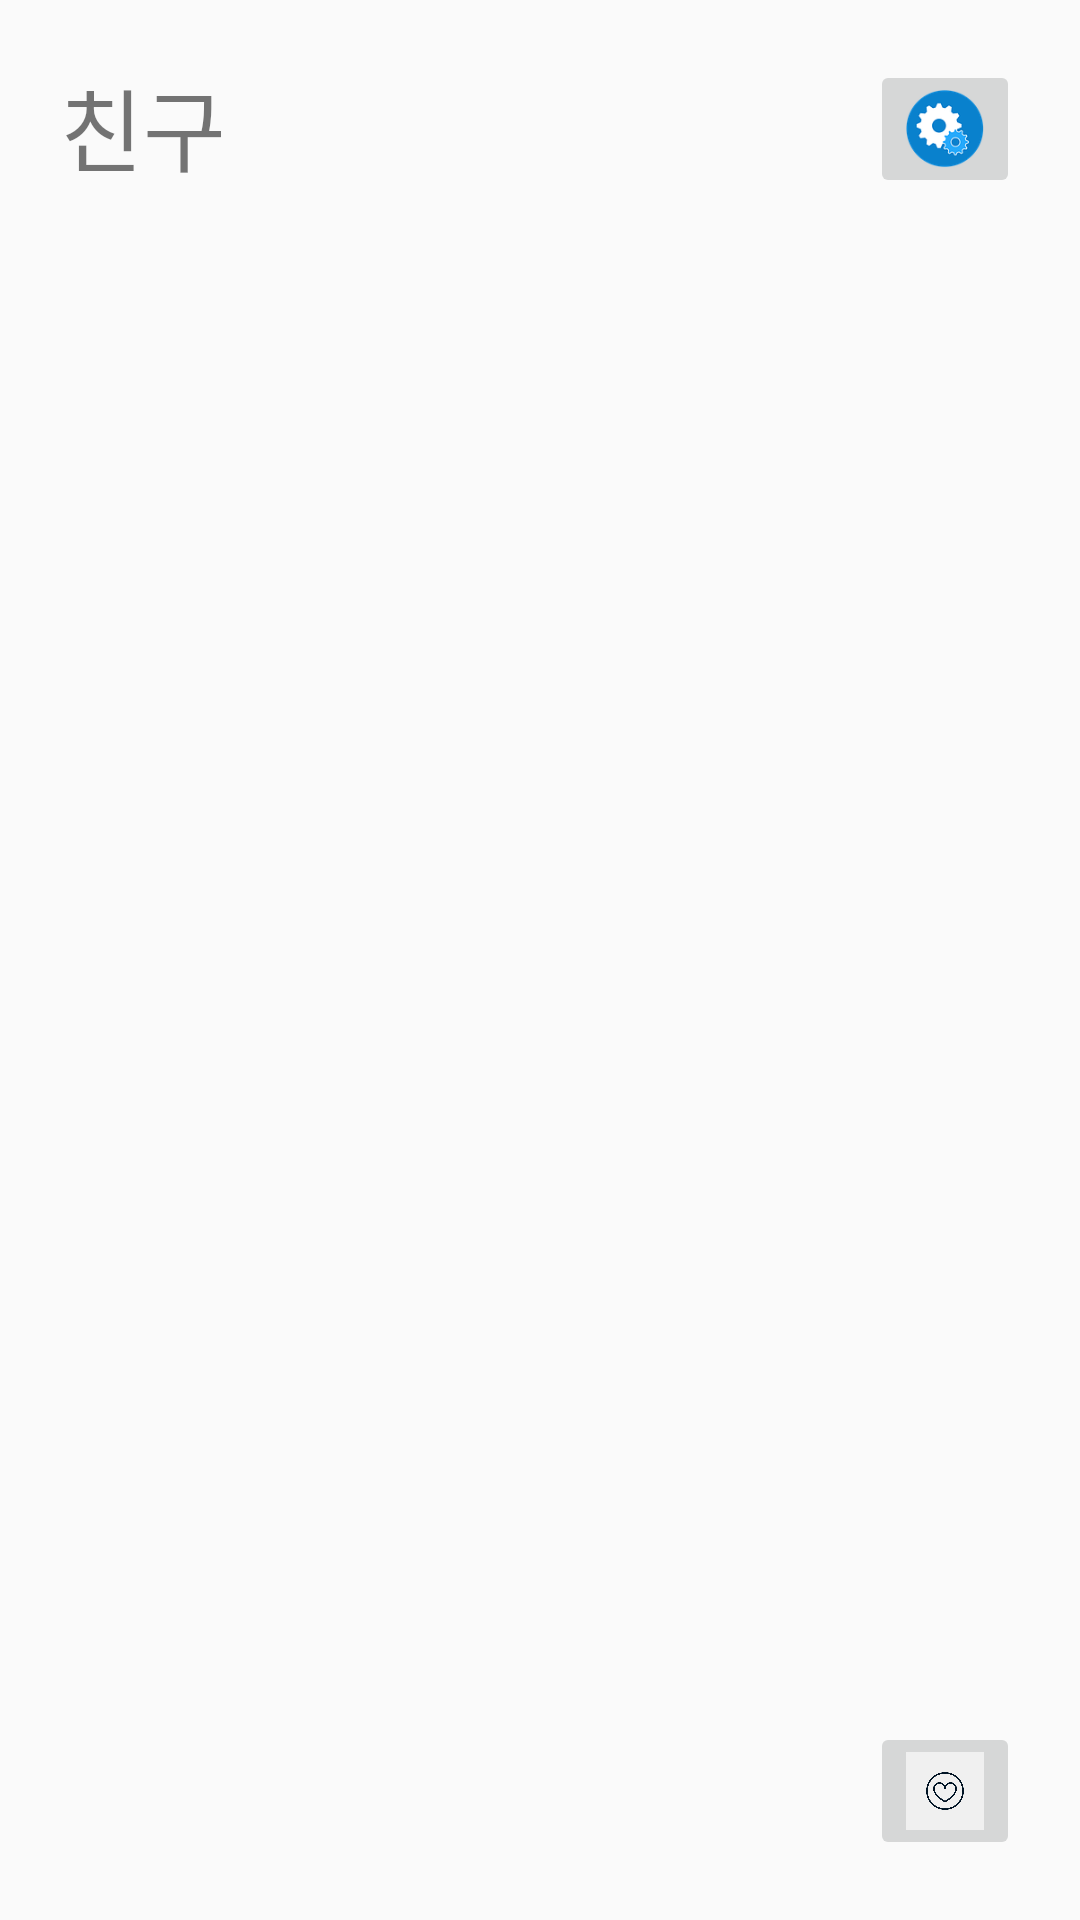

Icons on this 1080*1920 Android screen, each with its box as (x1, y1, x2, y2):
imgbtn setting: (882, 78, 1008, 180)
